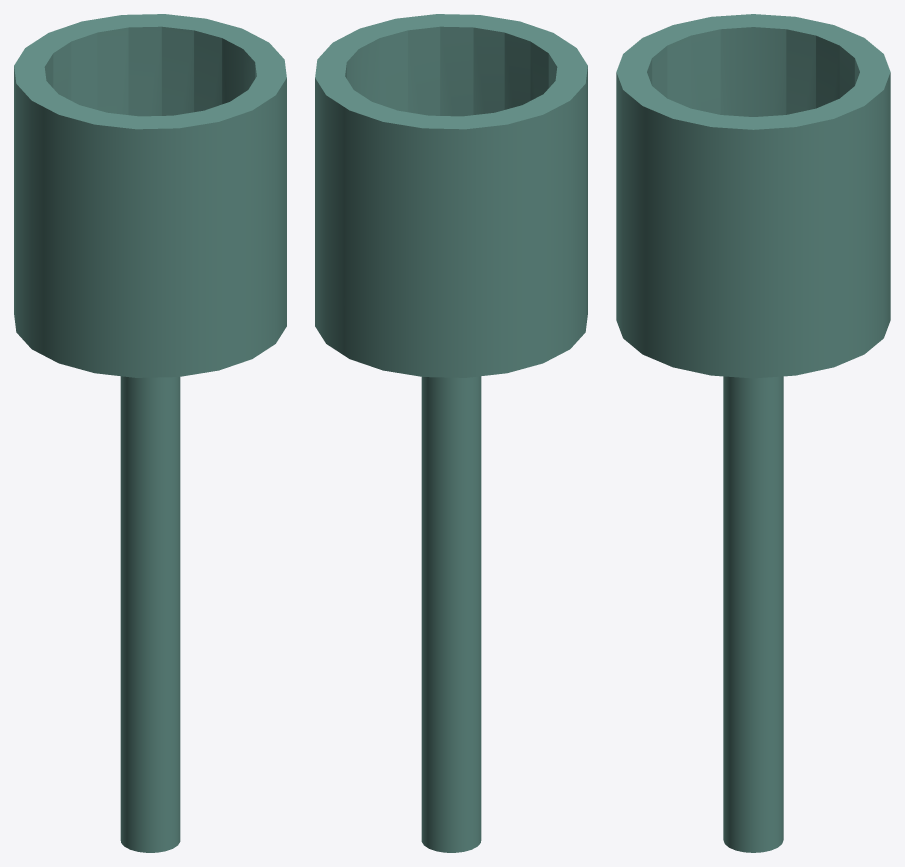
The model's file is Goal.fbx.
The picture shows the model from 3 angles, left to right: view 1: azimuth 30°, elevation 25°; view 2: azimuth 150°, elevation 25°; view 3: azimuth 270°, elevation 25°; orthographic projection.
Visible parts, largest first — view 1: pCylinder6; view 2: pCylinder6; view 3: pCylinder6.
Boxes of the visible parts, <box> form: pCylinder6: <box>14,14,286,852</box>; pCylinder6: <box>315,14,587,852</box>; pCylinder6: <box>616,14,890,852</box>.
Size of the model in its own units: 2 by 6.18 by 2.
